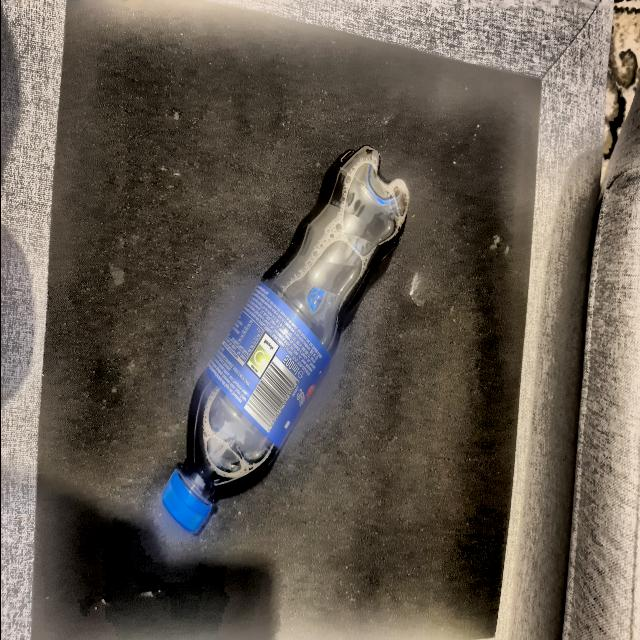pepsi-bottle: (159, 142, 405, 524)
